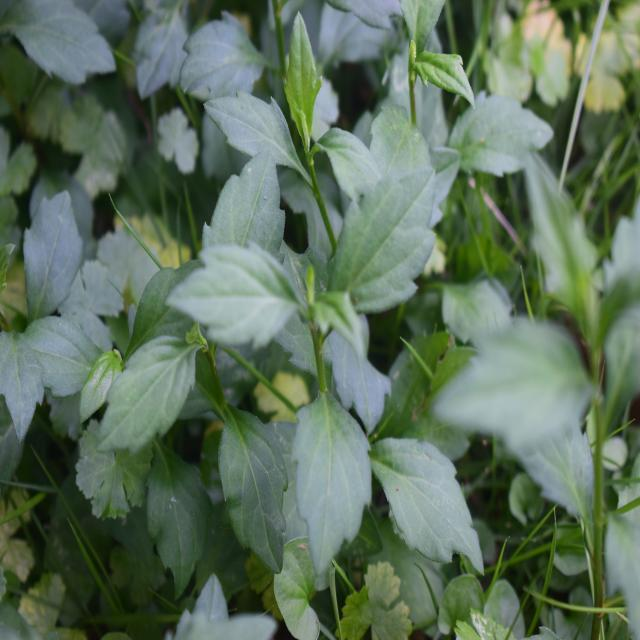Indian aster: (167, 150, 504, 569)
